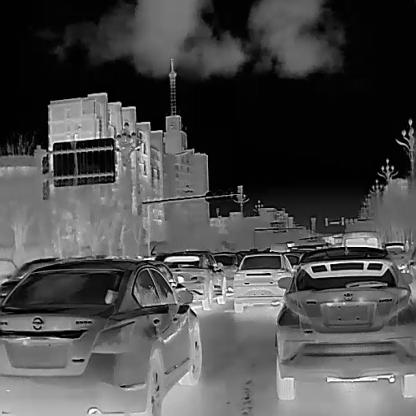car: (0, 254, 202, 415), (274, 250, 416, 398), (161, 247, 226, 312), (232, 254, 292, 312), (339, 229, 382, 250)
